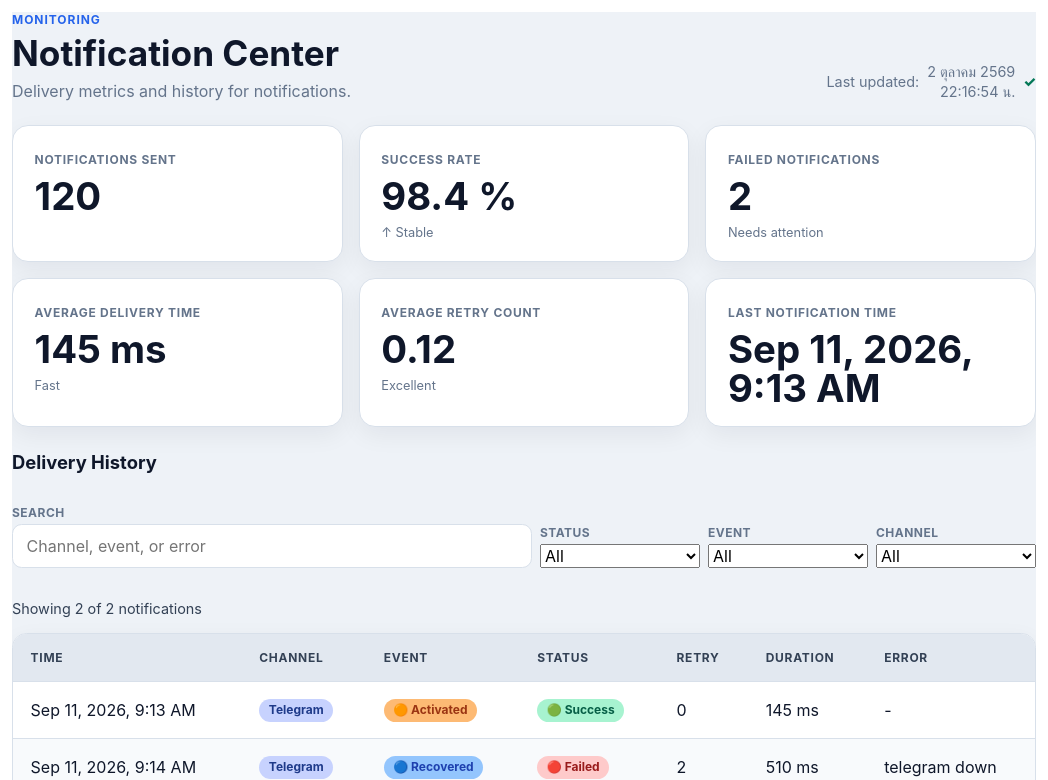
Notification Center page › searches delivery history by channel, event, and error
Expected: the text "Showing 2 of 2 notifications" is shown, [12,600,202,618]
Type "telegram down" into the search field labelled "Search" at (272, 546), box [12,524,532,568]
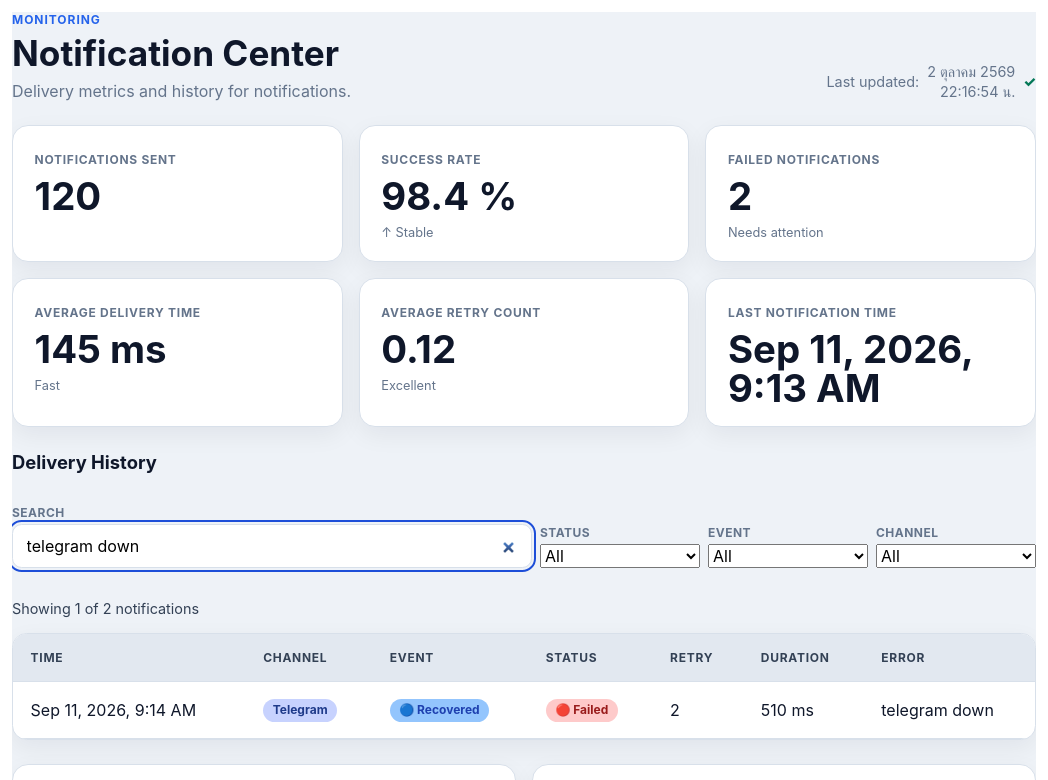
Expected: the text "🔴 Failed" is shown, [546,699,618,722]
Result: the text "Showing 1 of 2 notifications" is shown at [12,600,199,618]
Result: the text "🟢 Success" is gone
